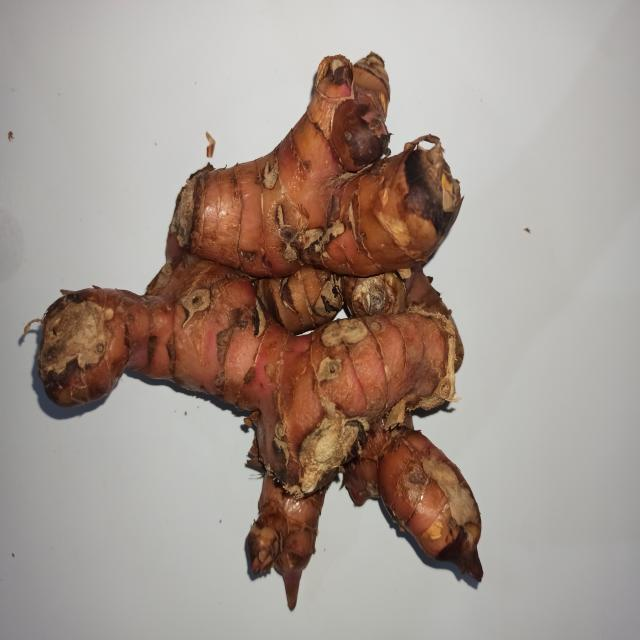ginger: (39, 50, 487, 571)
